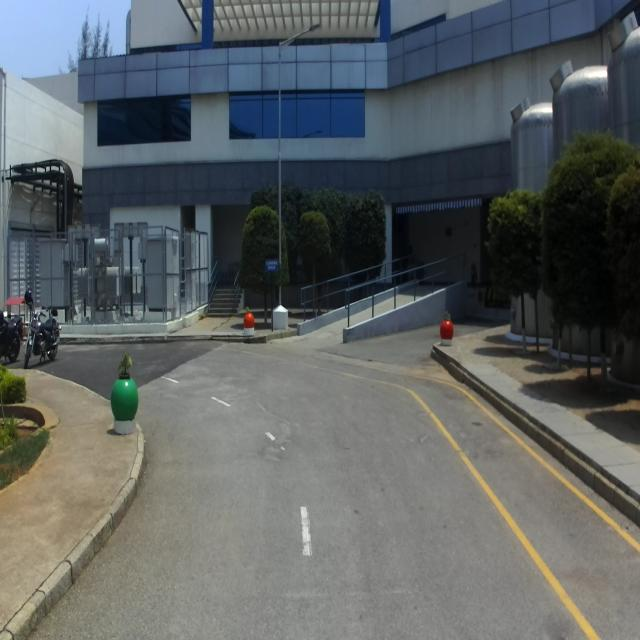motorcycle ahead at: (18, 291, 69, 372)
